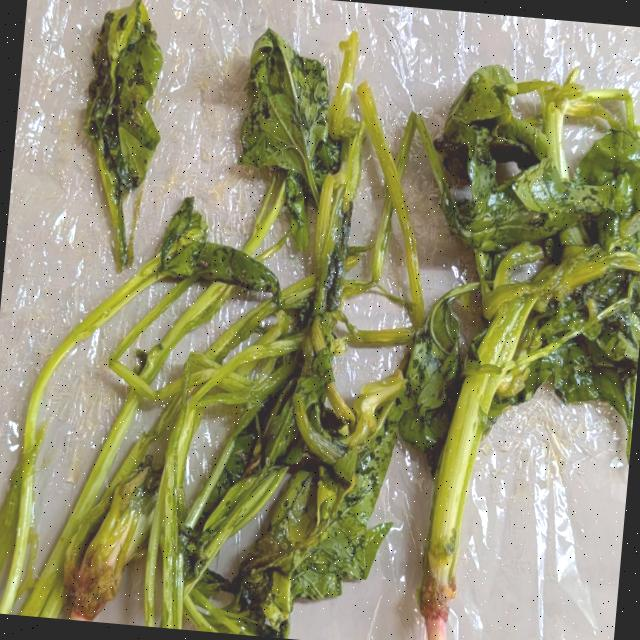rotten spinach: (0, 0, 640, 640), (358, 51, 640, 598), (130, 79, 382, 640), (87, 238, 400, 585), (70, 22, 170, 254)
